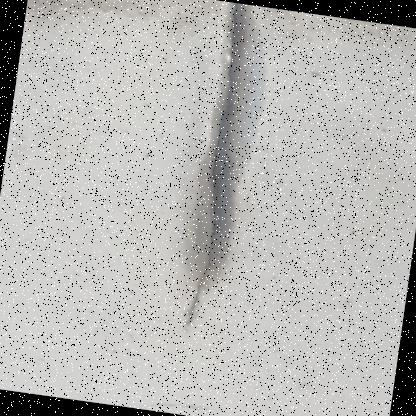Crack: (105, 0, 335, 368)
